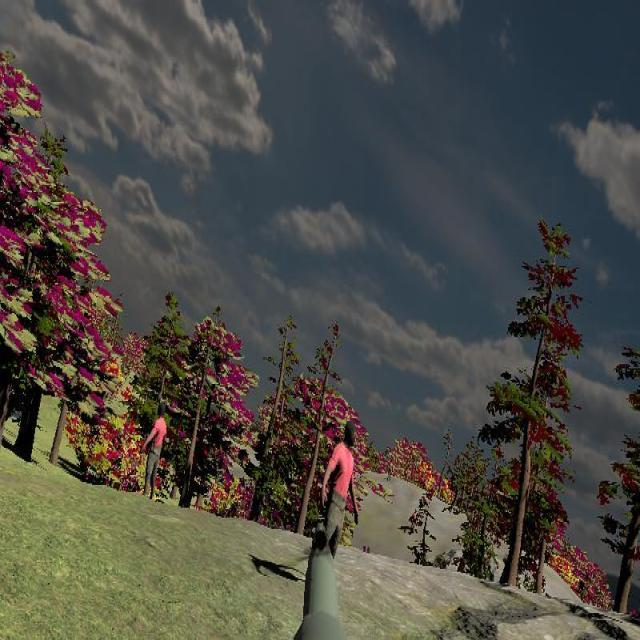Human: (321, 419, 359, 588), (141, 402, 169, 502)
